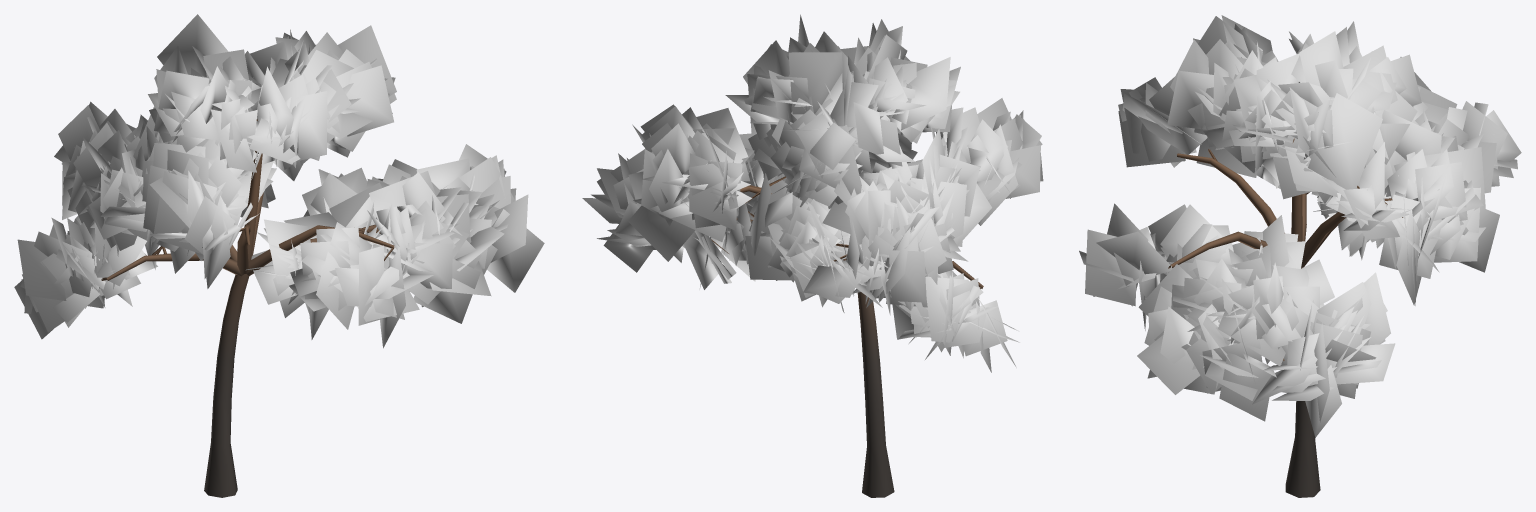
3 renders of one model, left to right at view 1: azimuth 30°, elevation 25°; view 2: azimuth 150°, elevation 25°; view 3: azimuth 270°, elevation 25°, orthographic. The views are drawn at different scales.
Parts seen in each view (by area): view 1: crown, trunk; view 2: crown, trunk; view 3: crown, trunk.
Part boxes in pixels (<box>): crown: <box>14,14,544,348</box>; trunk: <box>101,119,394,497</box>; crown: <box>582,14,1043,372</box>; trunk: <box>711,176,983,497</box>; crown: <box>1079,15,1521,437</box>; trunk: <box>1168,138,1403,497</box>.
Bounding box in the file's own units: 12.84 × 11.28 × 9.64.
